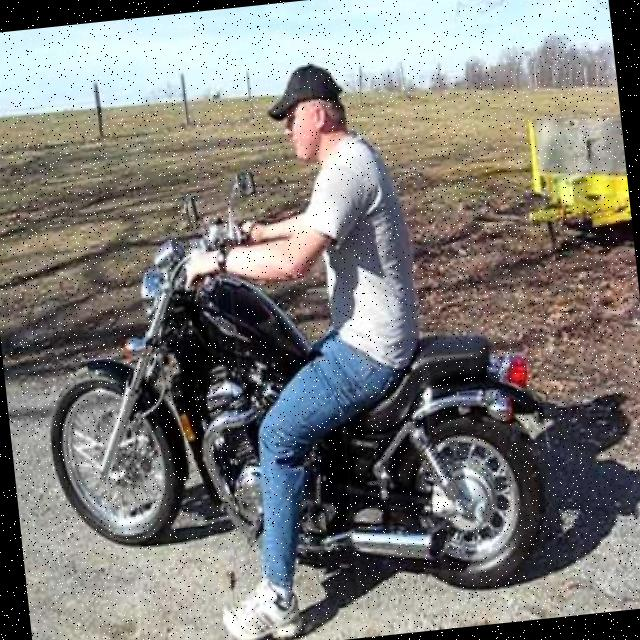No helmet: (253, 52, 369, 187)
